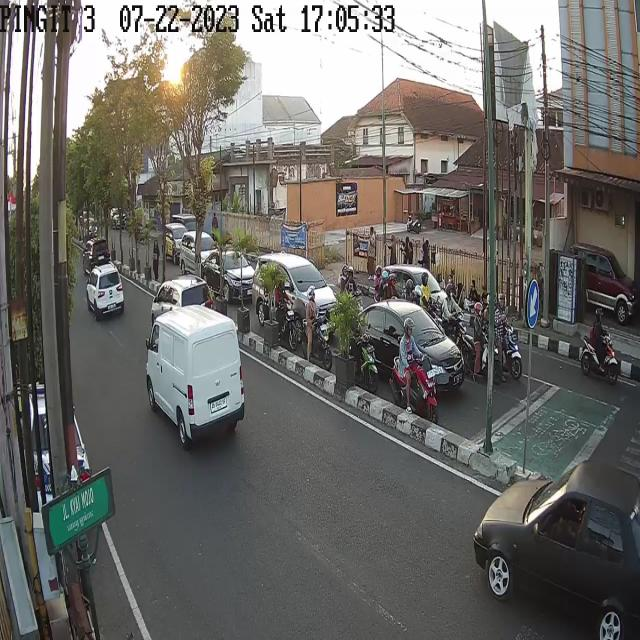car: (470, 482, 640, 636), (146, 305, 246, 447), (344, 294, 466, 392), (252, 251, 338, 321), (574, 244, 638, 326), (148, 274, 211, 345), (202, 251, 255, 303), (87, 260, 127, 319), (177, 231, 218, 266), (164, 224, 190, 258), (84, 239, 116, 265)
motorcycle: (389, 307, 436, 418), (578, 309, 620, 382), (494, 292, 522, 383)
